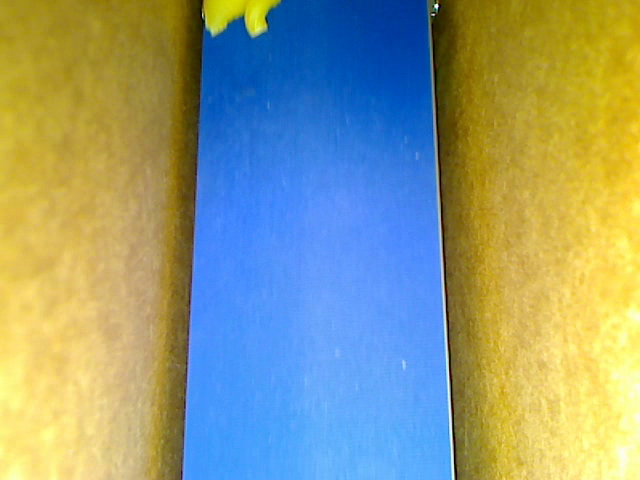elbow: (244, 1, 280, 39)
shell: (200, 1, 250, 36)
